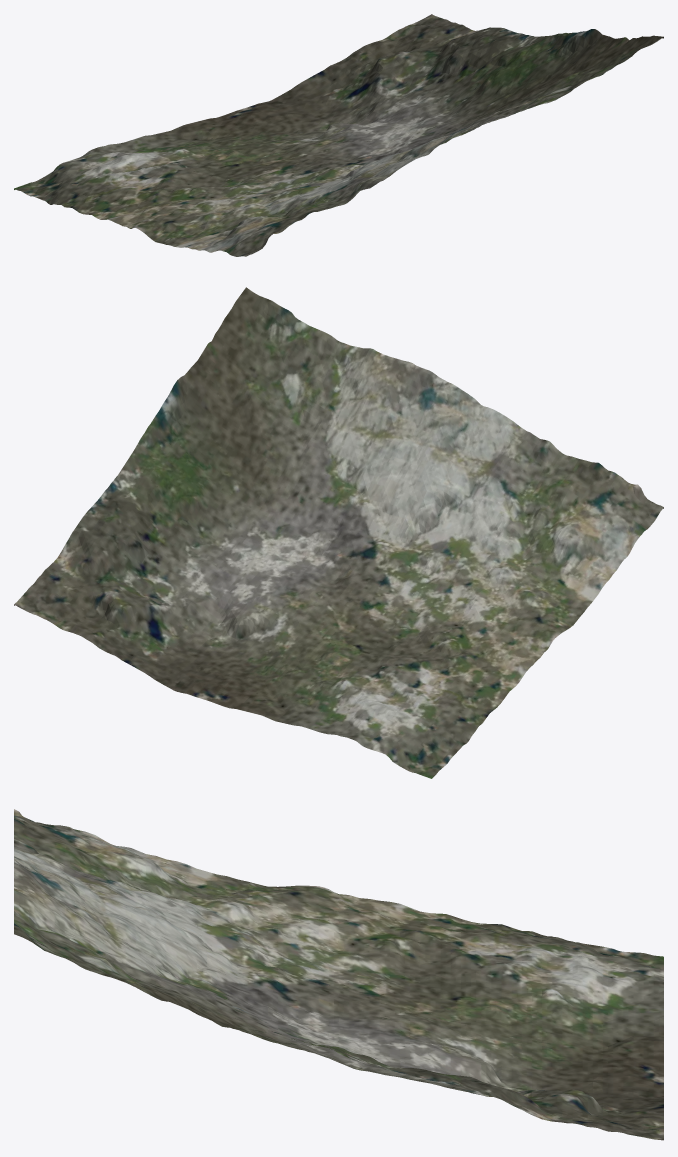
3 renders of one model, top to bottom at view 1: azimuth 30°, elevation 25°; view 2: azimuth 150°, elevation 25°; view 3: azimuth 270°, elevation 25°, orthographic. The views are drawn at different scales.
Bounding box in the file's own units: 250 × 127 × 241.
Materials: 1 (1 with a texture image).
